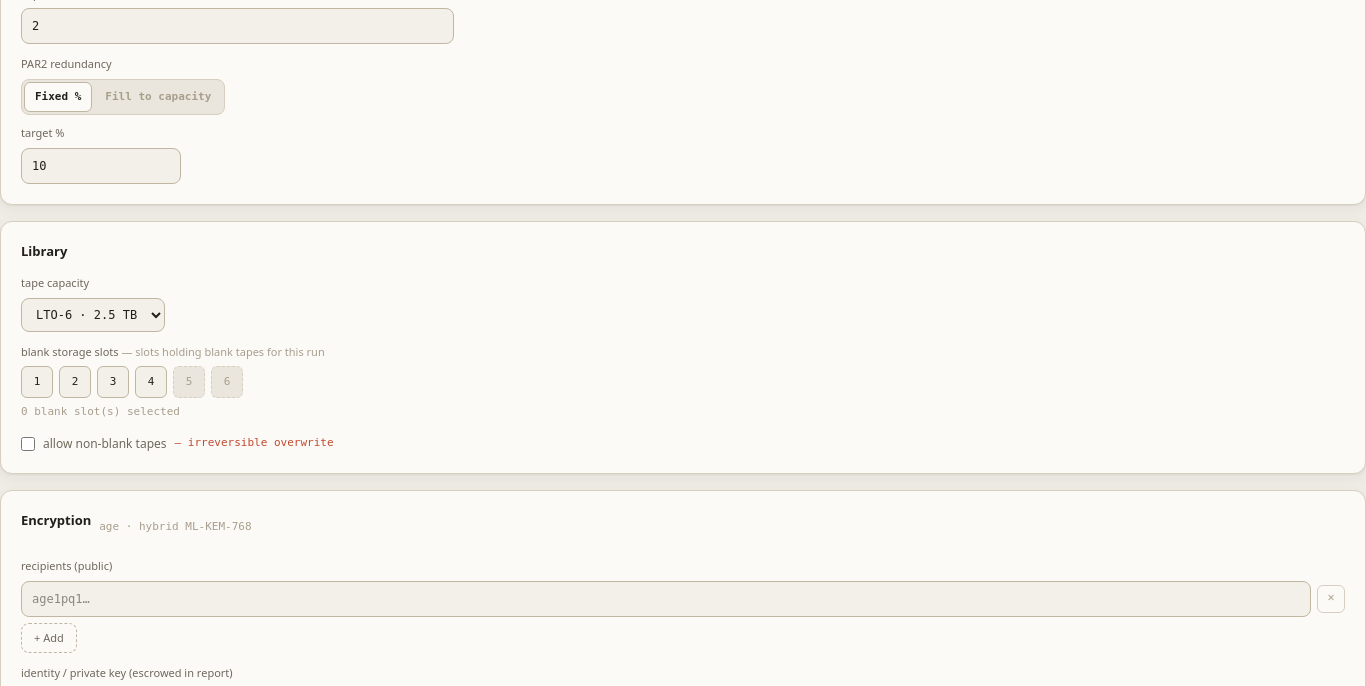
Test: ConfigForm › toggles a blank storage slot by clicking its grid cell
(page scrolled)
Click the button named "Slot 3" at (113, 382), box top-left (97, 366), bottom-right (129, 398)
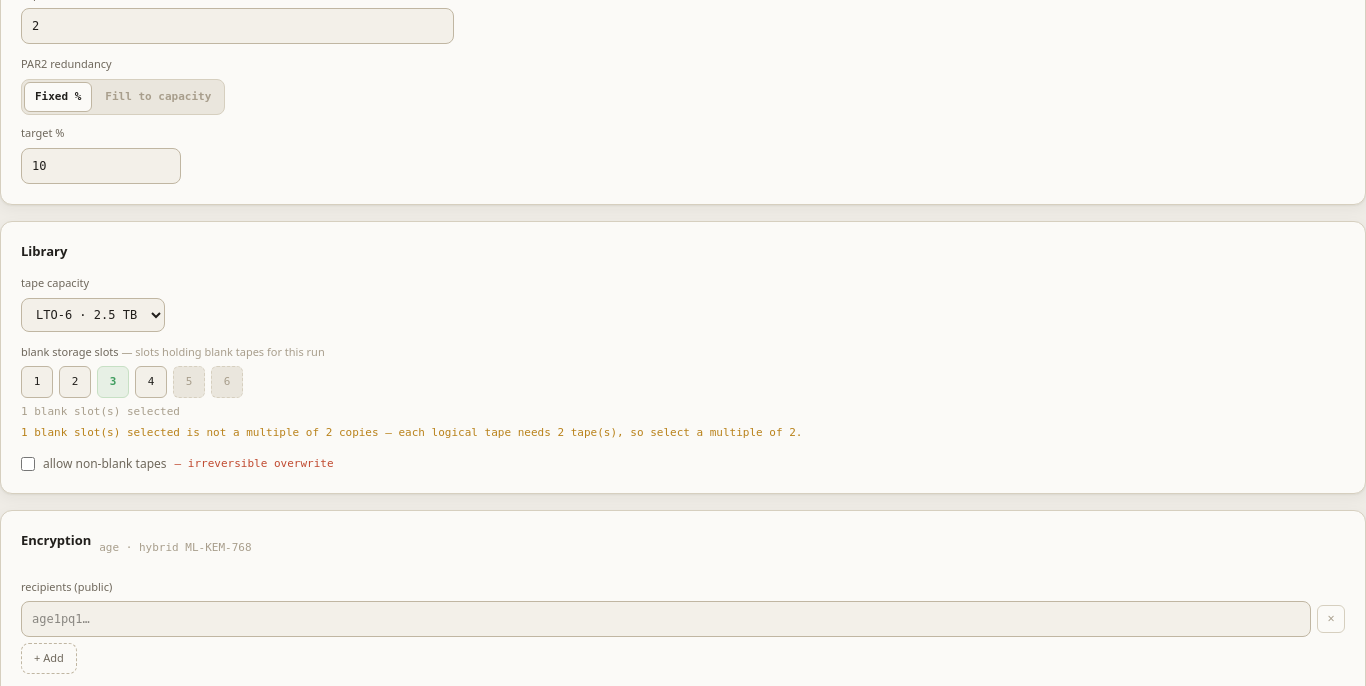
Result: the text "1 blank slot(s) selected" is shown at top-left (21, 405), bottom-right (180, 418)
# Clicking a selected slot deselects it.
Click the button named "Slot 3" at (113, 382), box top-left (97, 366), bottom-right (129, 398)
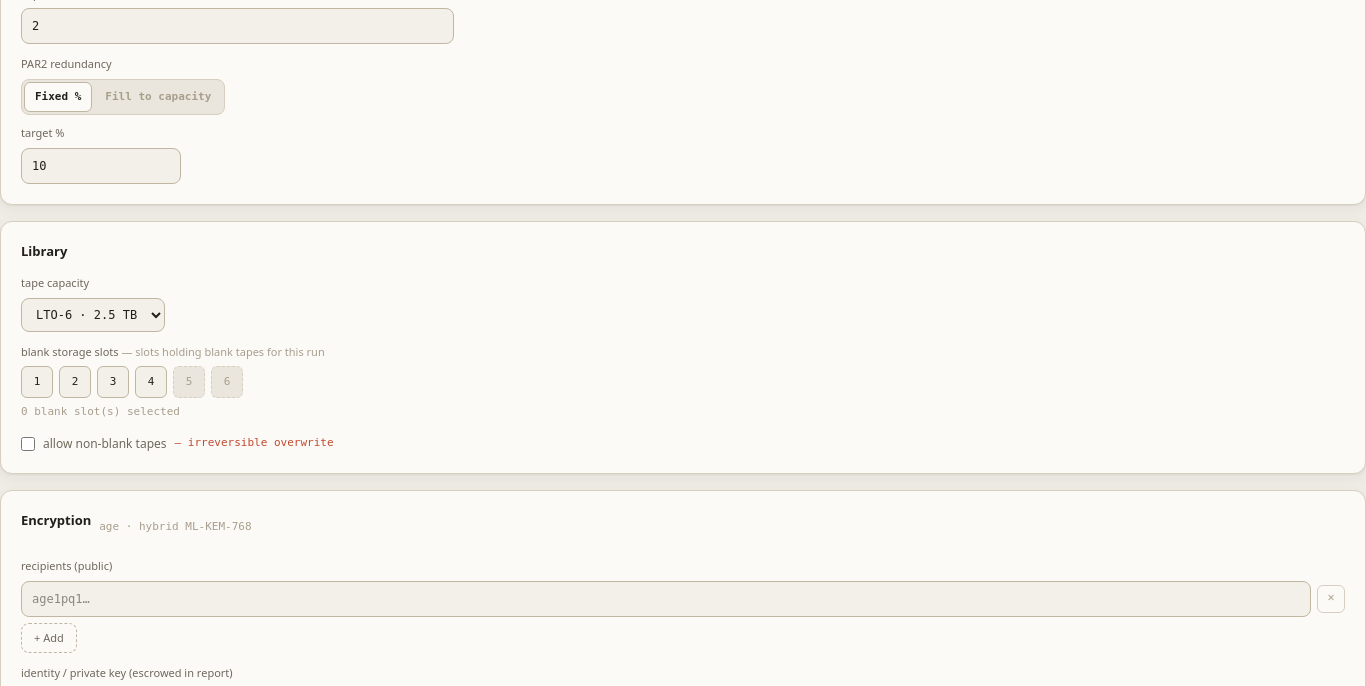
Result: the text "0 blank slot(s) selected" is shown at top-left (21, 405), bottom-right (180, 418)
